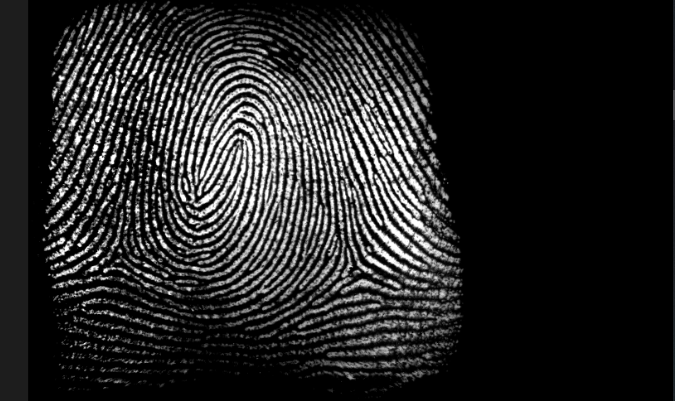nucelo: (221, 126, 260, 170)
verticilo: (101, 240, 135, 273), (339, 251, 370, 278)
